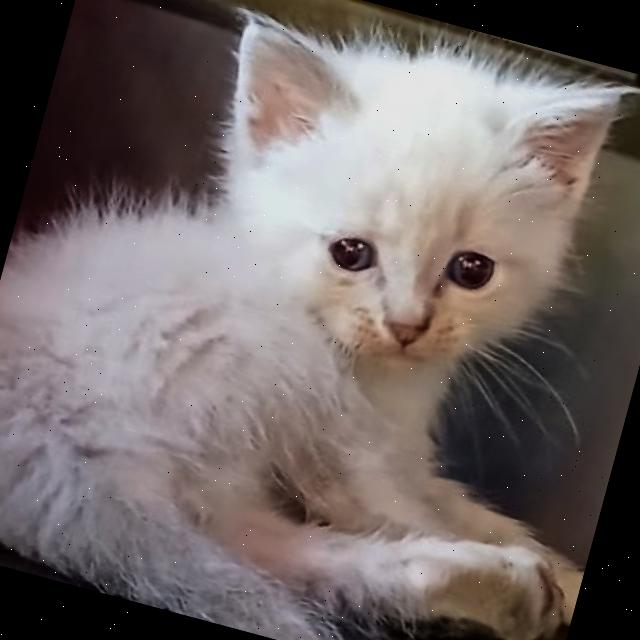siamese_cat: (111, 0, 640, 457)
